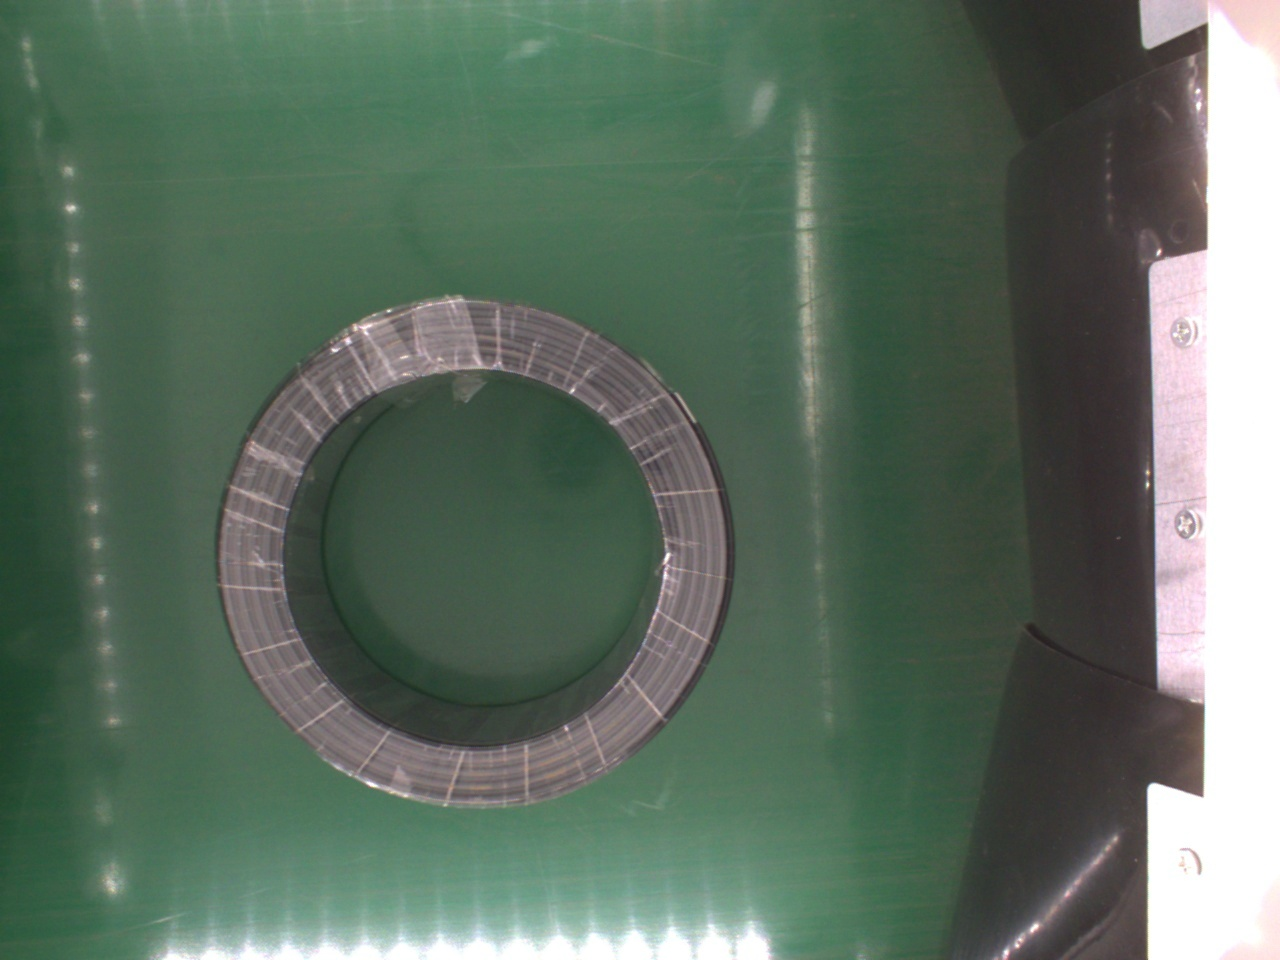black: (214, 297, 733, 814)
